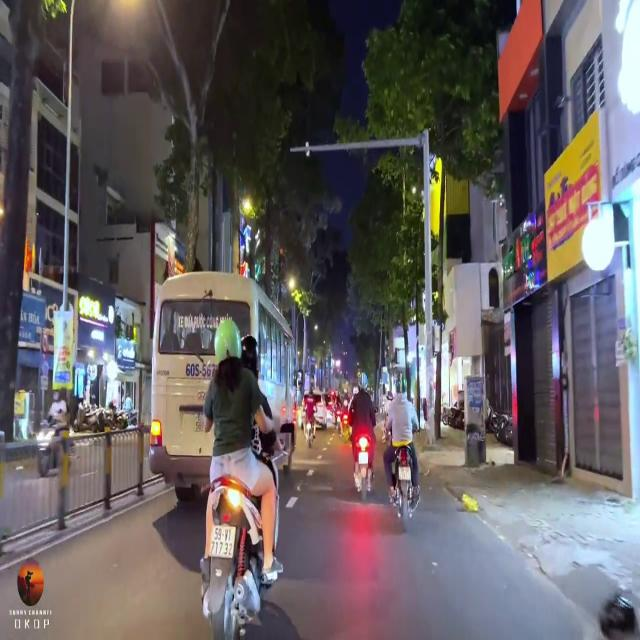bien_trang: (205, 522, 236, 554), (192, 413, 210, 434)
